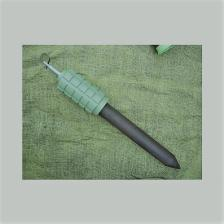POMZ2: (34, 54, 184, 174)
